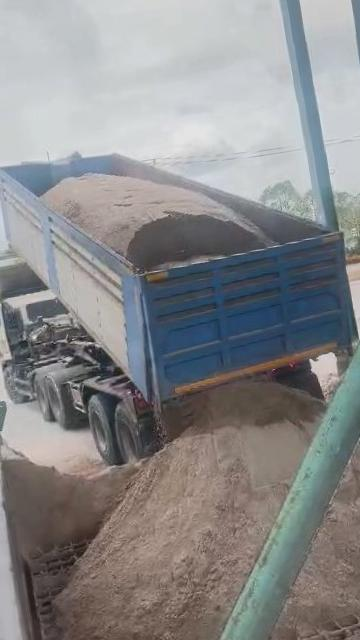sand: (57, 382, 323, 640), (42, 174, 273, 270), (274, 426, 360, 640), (2, 450, 135, 559)
